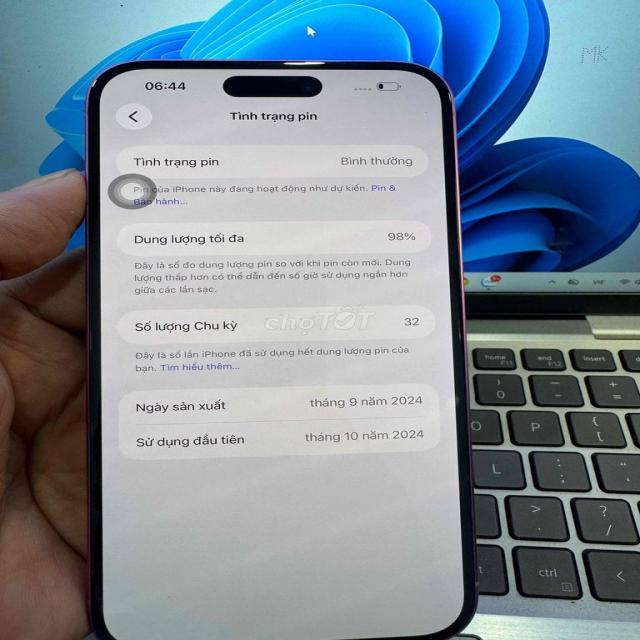gen_16: (65, 42, 494, 640)
